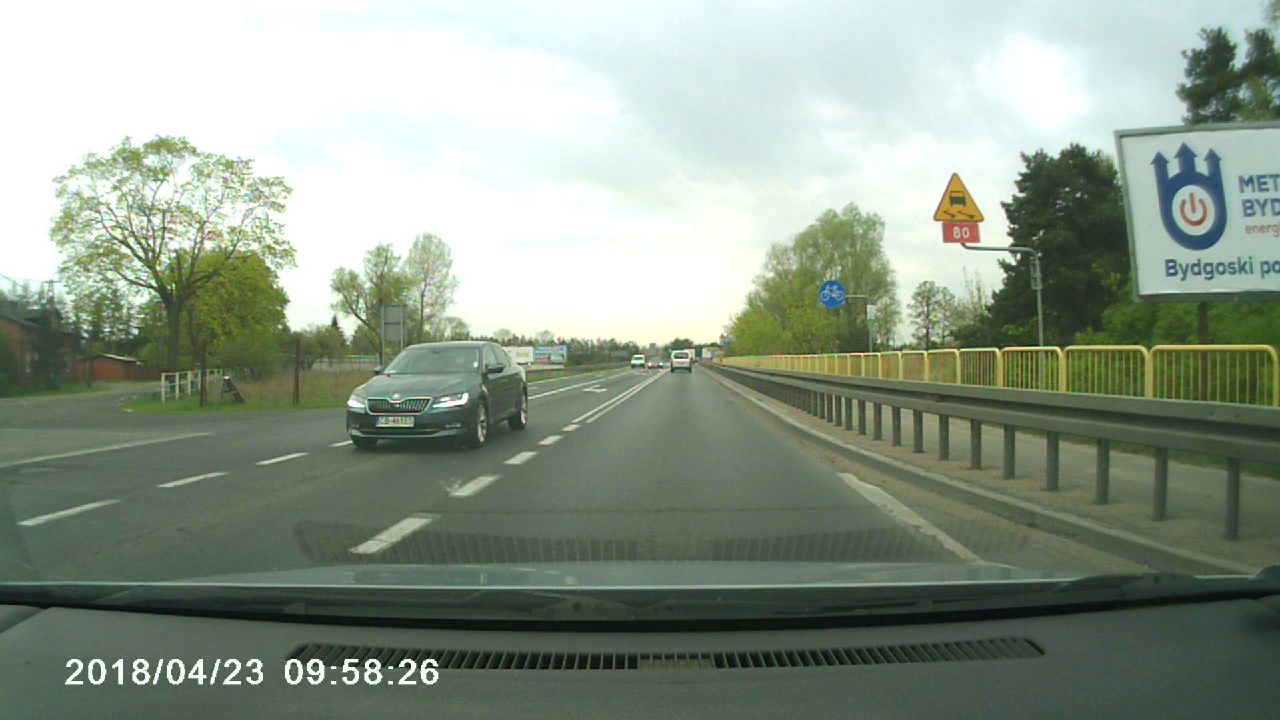A15: (934, 173, 986, 222)
